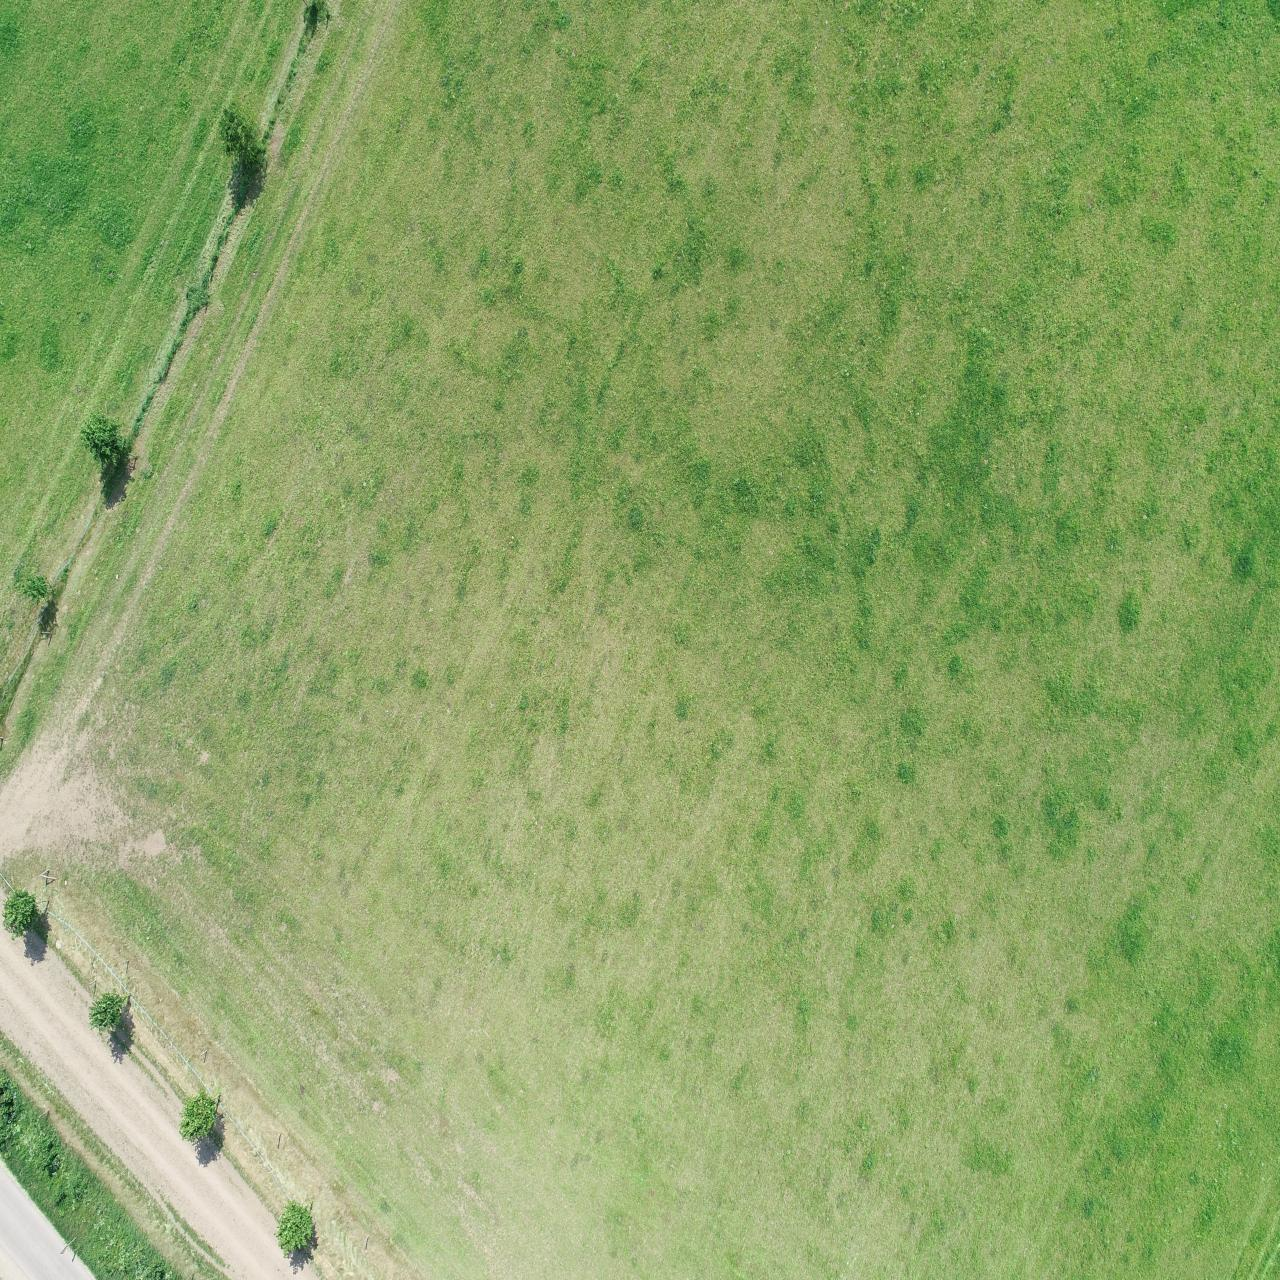cow: (309, 287, 331, 353), (597, 743, 615, 813)
